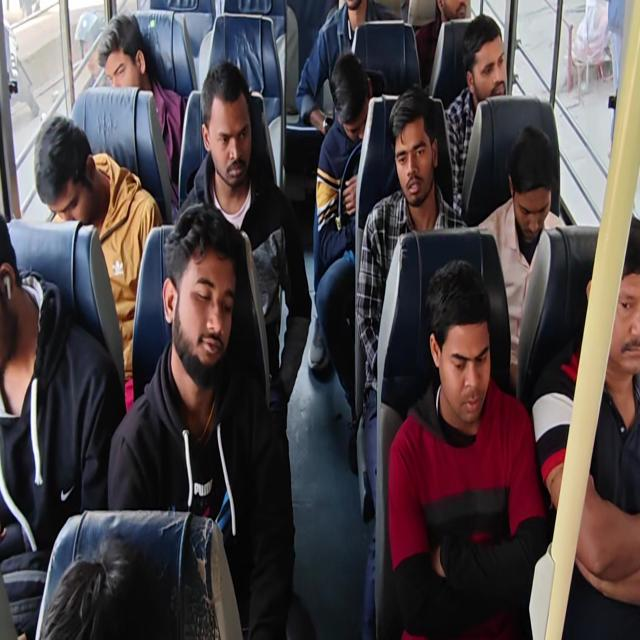person: (163, 197, 253, 390), (419, 246, 506, 442), (41, 525, 167, 640), (26, 102, 109, 264), (585, 198, 640, 413), (503, 118, 572, 253), (197, 56, 261, 200), (1, 192, 42, 384), (383, 96, 446, 212), (463, 20, 520, 107), (98, 12, 155, 93), (329, 54, 375, 139), (434, 0, 483, 26), (341, 2, 383, 32)
